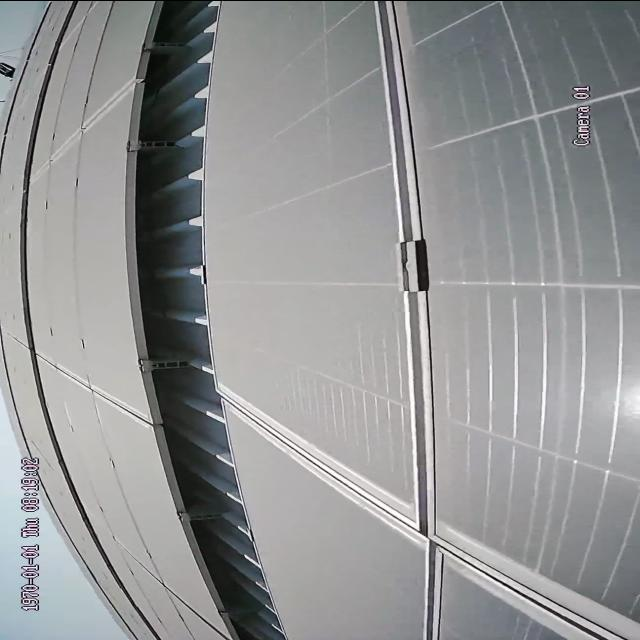interior panel: (239, 11, 640, 640), (44, 84, 131, 166), (47, 352, 141, 424)
outher panel: (125, 3, 300, 640)
